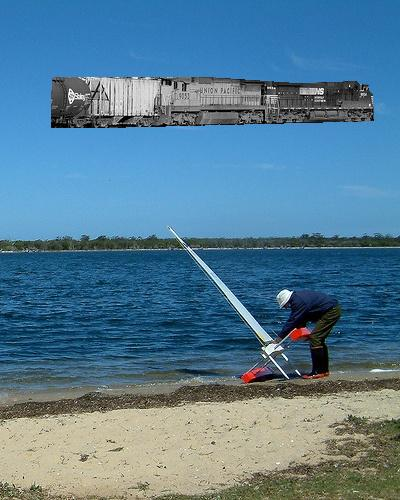tampered: (52, 78, 374, 128)
